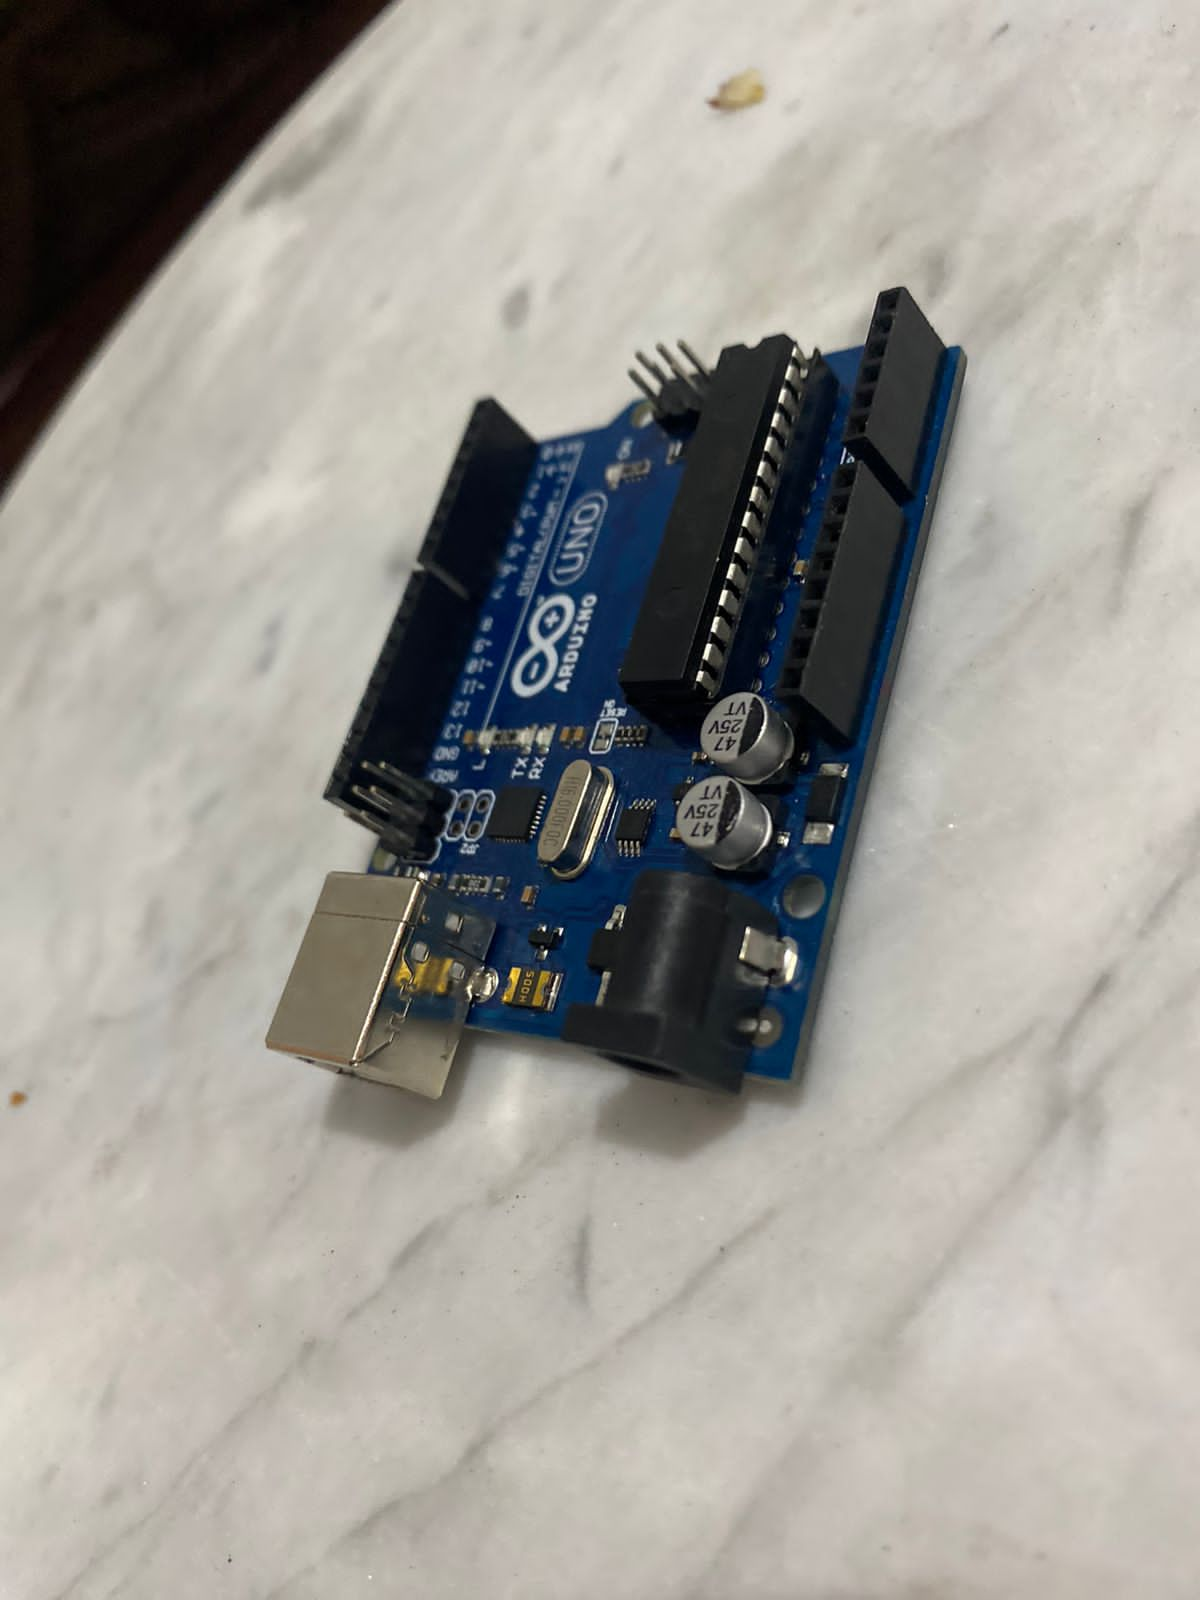arduino-uno: (265, 277, 969, 1129)
